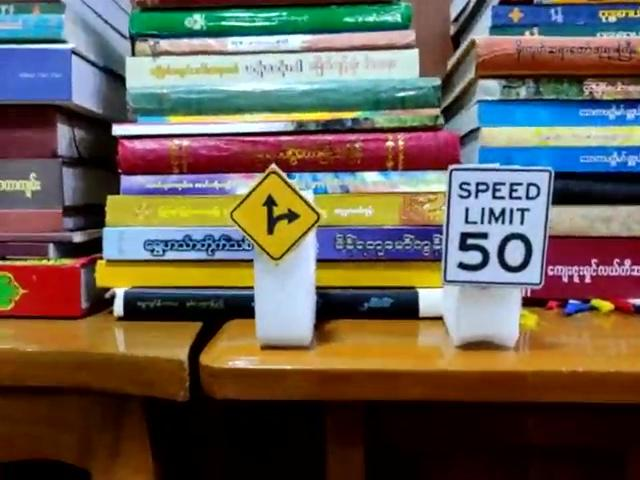Speed Limit 50: (442, 167, 554, 290)
Straight Or Right Sign: (230, 166, 320, 264)
